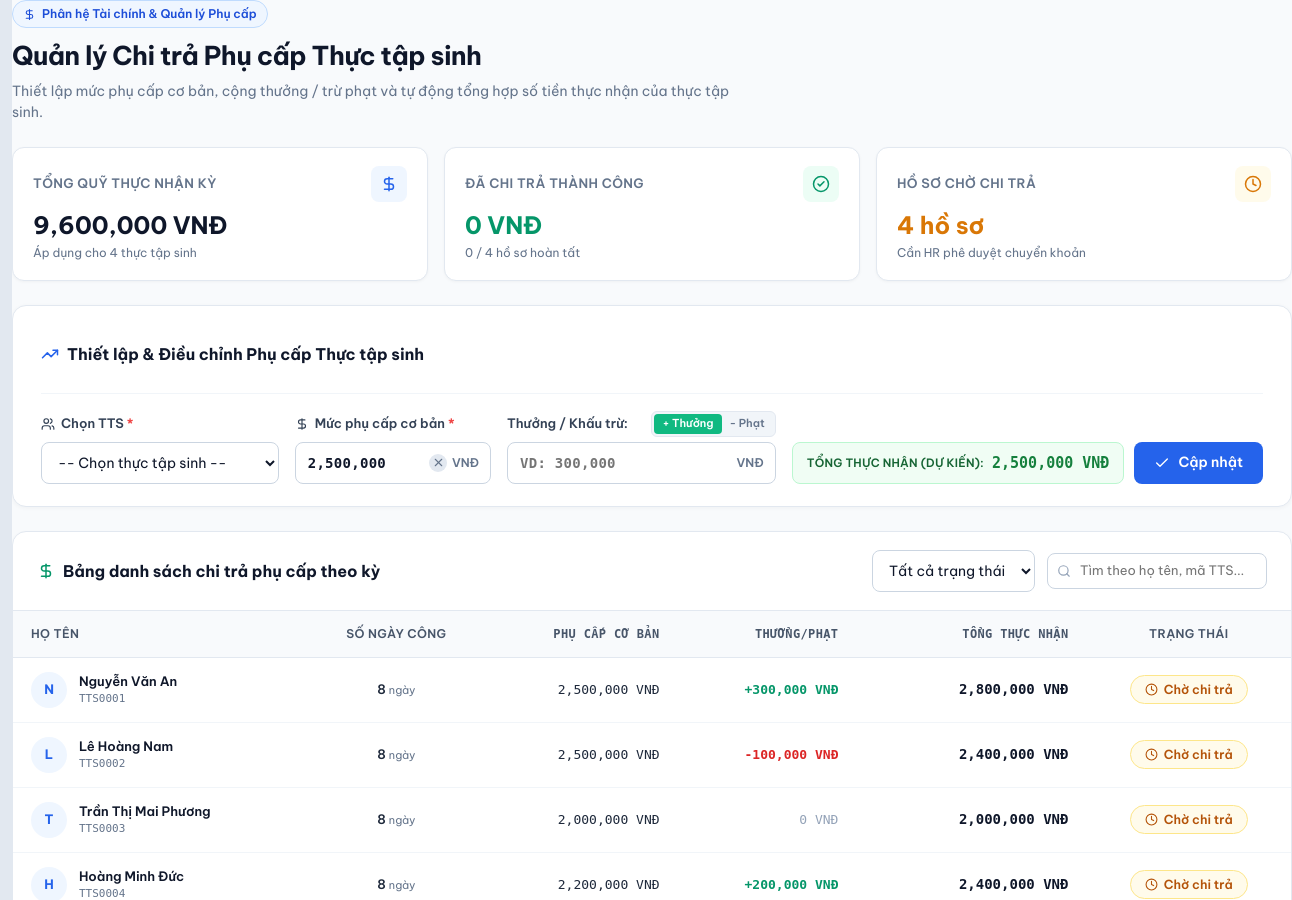
Test case: AllowanceManagementPage Component Test Suite › 3. Ràng buộc nhập liệu ô Input tiền › tự động format dấu phẩy khi gõ số vào ô Mức phụ cấp cơ bản
Note: Xóa và nhập 1500000
Clear the field labelled "Mức phụ cấp cơ bản *" at {"x": 393, "y": 463}, box [295, 442, 491, 484]
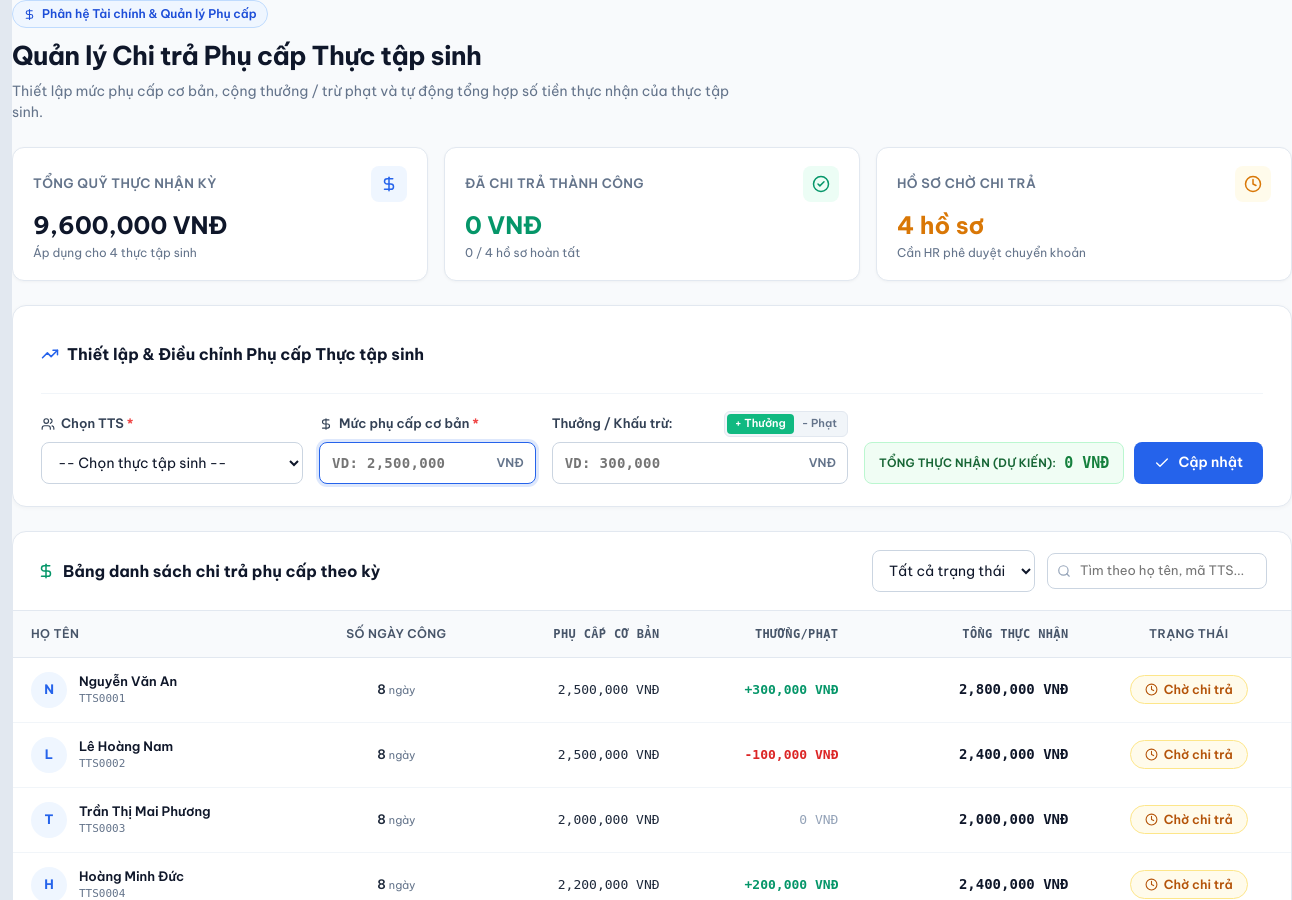
Type "1500000" into the field labelled "Mức phụ cấp cơ bản *" at {"x": 427, "y": 463}, box [319, 442, 536, 484]
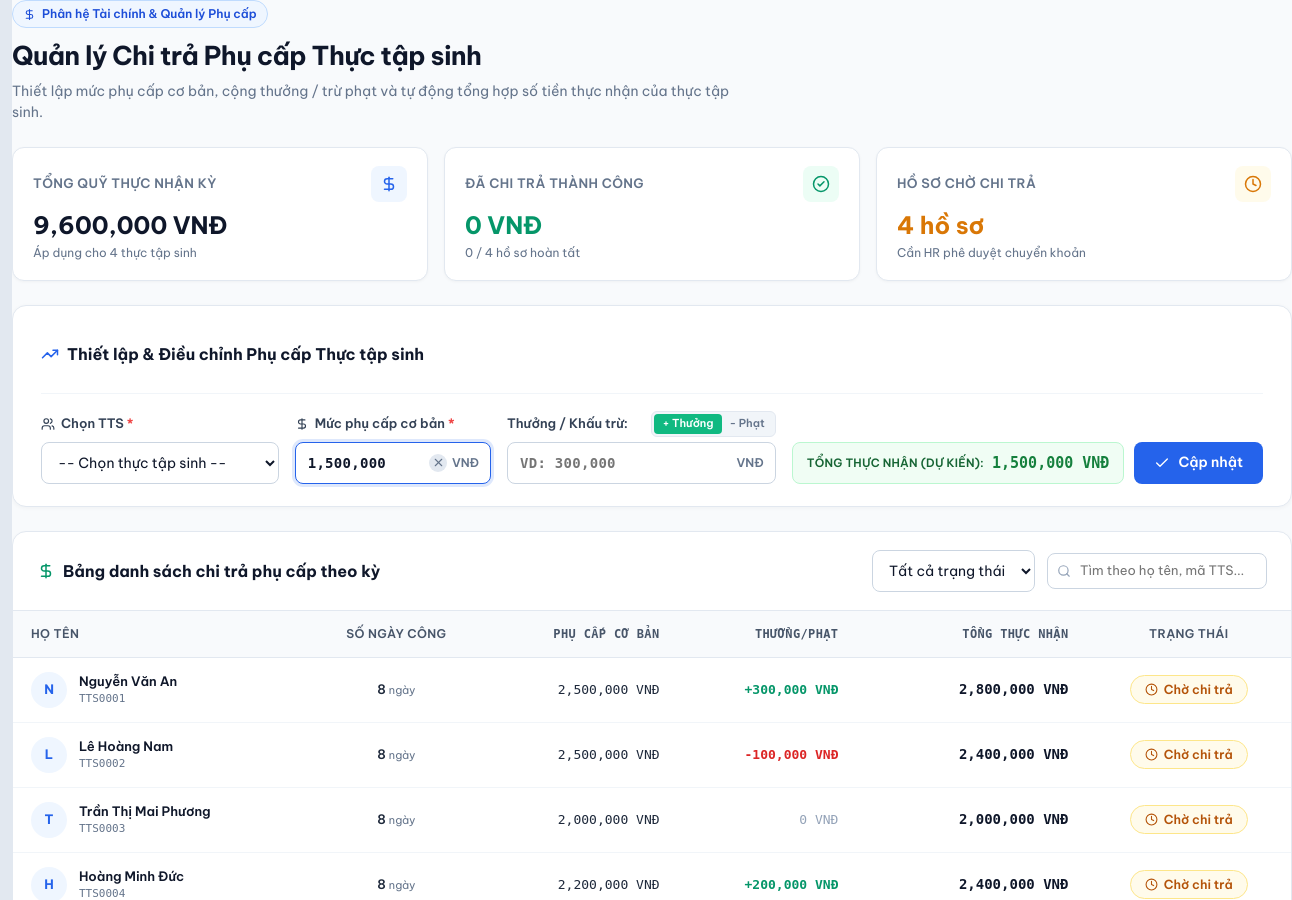
expect the field labelled "Mức phụ cấp cơ bản *" holds "1,500,000": met, box [295, 442, 491, 484]
